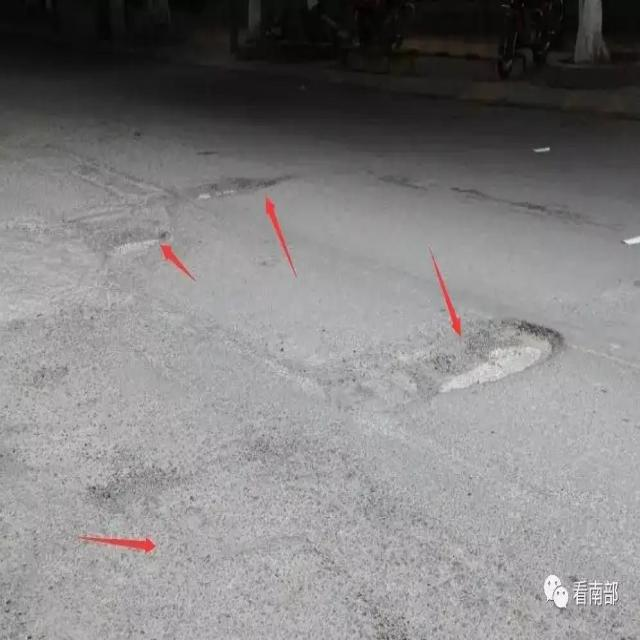Pothole: (413, 316, 568, 396), (90, 469, 200, 515), (456, 190, 573, 221), (188, 174, 277, 198), (112, 226, 169, 252)
